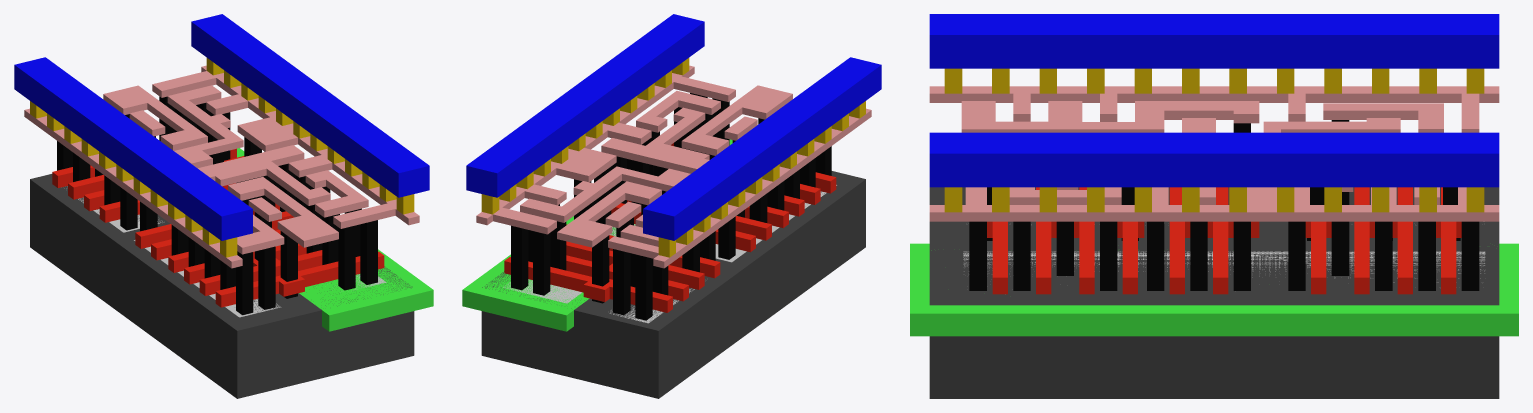
The model's file is sky130_fd_sc_hd__o2bb2ai_2.obj.
3 views of the same model, side by side, from view 1: azimuth 30°, elevation 25°; view 2: azimuth 150°, elevation 25°; view 3: azimuth 270°, elevation 25° (orthographic). The views are drawn at different scales.
Visible parts, largest first — view 1: subs, metal1, li, licon, poly, nwell, mcon, diff; view 2: subs, metal1, li, licon, poly, mcon, nwell, tap, diff; view 3: metal1, subs, li, nwell, licon, poly, mcon, tap.
Part boxes in pixels (x1=…): subs: x1=30, y1=174, x2=414, y2=398; metal1: x1=14, y1=14, x2=429, y2=240; li: x1=24, y1=65, x2=419, y2=268; licon: x1=57, y1=96, x2=377, y2=315; poly: x1=52, y1=148, x2=384, y2=307; nwell: x1=237, y1=148, x2=433, y2=331; mcon: x1=30, y1=58, x2=414, y2=257; diff: x1=64, y1=186, x2=281, y2=317; subs: x1=481, y1=171, x2=865, y2=398; metal1: x1=466, y1=14, x2=881, y2=240; li: x1=476, y1=65, x2=871, y2=268; licon: x1=511, y1=93, x2=831, y2=320; poly: x1=504, y1=143, x2=836, y2=312; mcon: x1=481, y1=58, x2=865, y2=257; nwell: x1=462, y1=139, x2=732, y2=331; tap: x1=503, y1=224, x2=635, y2=303; diff: x1=609, y1=185, x2=836, y2=323; metal1: x1=929, y1=14, x2=1499, y2=187; subs: x1=929, y1=187, x2=1499, y2=398; li: x1=929, y1=86, x2=1499, y2=221; nwell: x1=910, y1=243, x2=1518, y2=336; licon: x1=969, y1=120, x2=1479, y2=290; poly: x1=987, y1=187, x2=1461, y2=294; mcon: x1=944, y1=68, x2=1484, y2=212; tap: x1=963, y1=251, x2=1485, y2=282.
Bounding box in the file's own units: 3.2 × 2.74 × 5.9.
